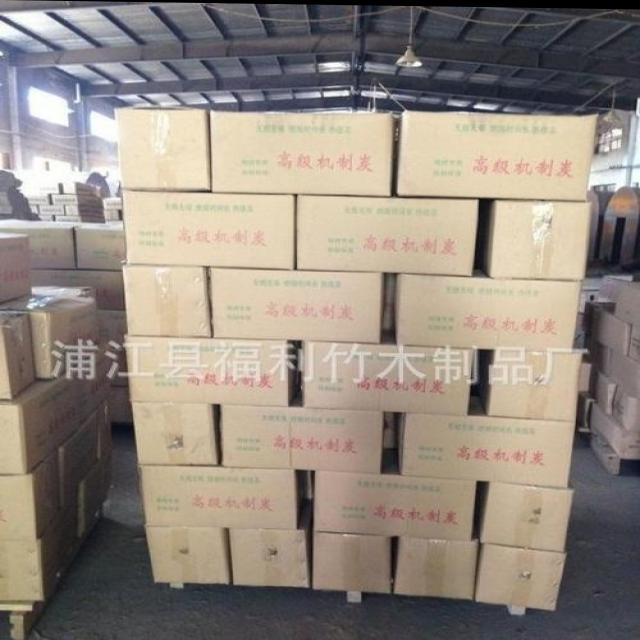box: (396, 109, 599, 199), (394, 395, 577, 487), (209, 109, 392, 195), (303, 326, 474, 415), (396, 268, 582, 349), (315, 446, 476, 539), (297, 194, 480, 275), (123, 190, 294, 269), (209, 266, 383, 342), (124, 336, 298, 406), (220, 405, 383, 472), (142, 466, 307, 529), (477, 199, 591, 278), (0, 490, 81, 599), (0, 370, 83, 475), (0, 295, 100, 379), (114, 104, 210, 191), (476, 347, 584, 419), (228, 498, 312, 586), (475, 480, 573, 550), (122, 263, 212, 336), (476, 542, 567, 610), (133, 401, 218, 465), (0, 452, 61, 539), (396, 534, 477, 599), (312, 532, 393, 592), (146, 527, 230, 583), (0, 218, 79, 268), (59, 410, 99, 508), (31, 269, 123, 309), (67, 350, 110, 421), (0, 314, 35, 399), (79, 447, 113, 531), (591, 401, 640, 458), (76, 222, 124, 269), (0, 232, 32, 302), (591, 304, 631, 353), (607, 348, 640, 399), (612, 384, 640, 429), (589, 369, 617, 412), (582, 300, 616, 335), (582, 333, 611, 372), (614, 281, 640, 324), (96, 309, 127, 345), (95, 396, 111, 458), (104, 345, 128, 385), (32, 286, 95, 299), (108, 386, 132, 420), (577, 392, 596, 425), (52, 195, 104, 207), (63, 181, 101, 196), (627, 323, 640, 360), (64, 205, 104, 215), (580, 355, 591, 389), (55, 216, 105, 222), (37, 183, 61, 194), (104, 197, 123, 210), (28, 195, 50, 205), (40, 205, 64, 213), (105, 210, 120, 220), (40, 214, 54, 221), (28, 205, 40, 212)
